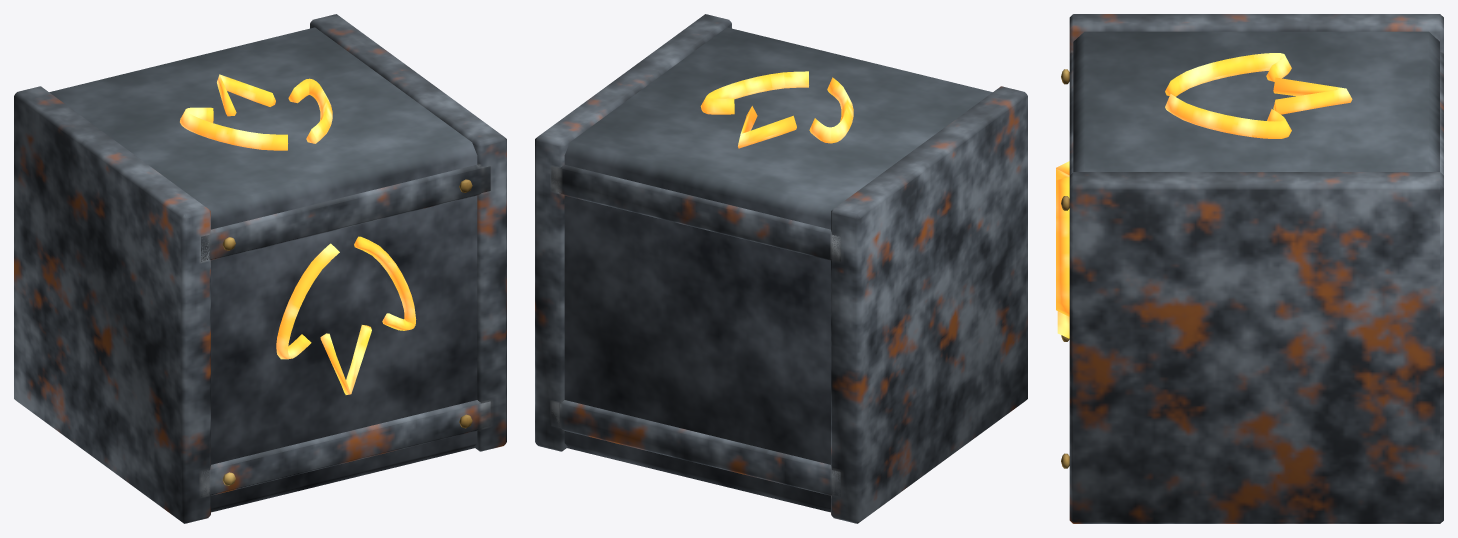
The model's file is RamSlab.fbx.
3 views of the same model, side by side, from view 1: azimuth 30°, elevation 25°; view 2: azimuth 150°, elevation 25°; view 3: azimuth 270°, elevation 25° (orthographic). The views are drawn at different scales.
Parts seen in each view (by area): view 1: RamSlab; view 2: RamSlab; view 3: RamSlab.
Boxes of the visible parts, box(x1,y1,x2,y2) form: RamSlab: box(14, 14, 506, 523); RamSlab: box(535, 14, 1027, 523); RamSlab: box(1056, 14, 1443, 523).
Size of the model in its own units: 1.1 by 1.04 by 1.04.
